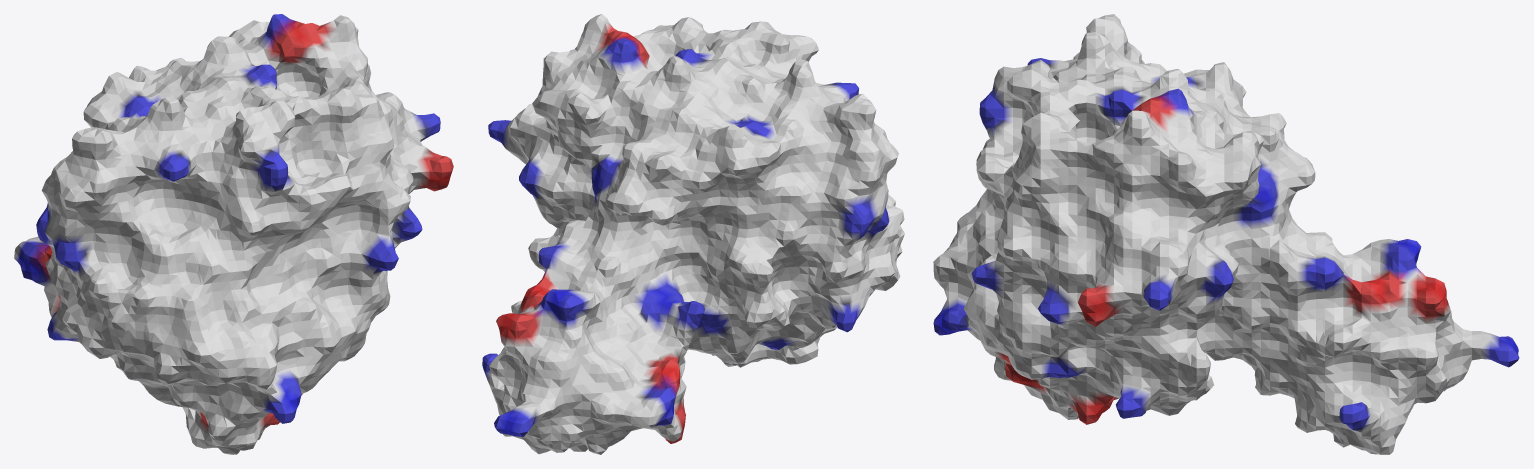
Rendered from 2PTC_A-Z_1.0.fbx.
The picture shows the model from 3 angles, left to right: view 1: azimuth 30°, elevation 25°; view 2: azimuth 150°, elevation 25°; view 3: azimuth 270°, elevation 25°; orthographic projection. The views are drawn at different scales.
Visible parts, largest first — view 1: Cube; view 2: Cube; view 3: Cube.
Boxes of the visible parts, left/top/right/bottom form: Cube: left=14, top=14, right=453, bottom=454; Cube: left=482, top=14, right=904, bottom=454; Cube: left=933, top=14, right=1519, bottom=454.
Size of the model in its own units: 5153 by 4517 by 6387.
